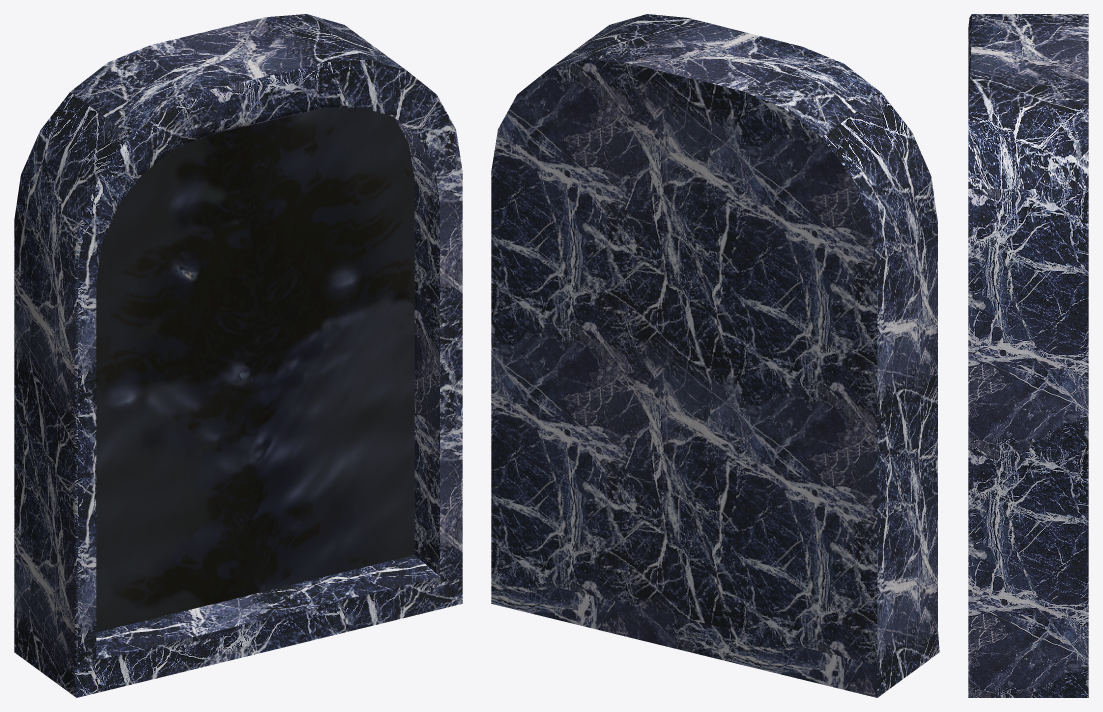
File: portal.fbx
3 renders of one model, left to right at view 1: azimuth 30°, elevation 25°; view 2: azimuth 150°, elevation 25°; view 3: azimuth 270°, elevation 25°, orthographic. The views are drawn at different scales.
Visible parts, largest first — view 1: Portal; view 2: Portal; view 3: Portal.
Part boxes in pixels (left/top/right/bottom): Portal: left=14, top=14, right=462, bottom=697; Portal: left=491, top=14, right=939, bottom=697; Portal: left=968, top=14, right=1088, bottom=697.
Bounding box in the file's own units: 248 × 352 × 69.33.
